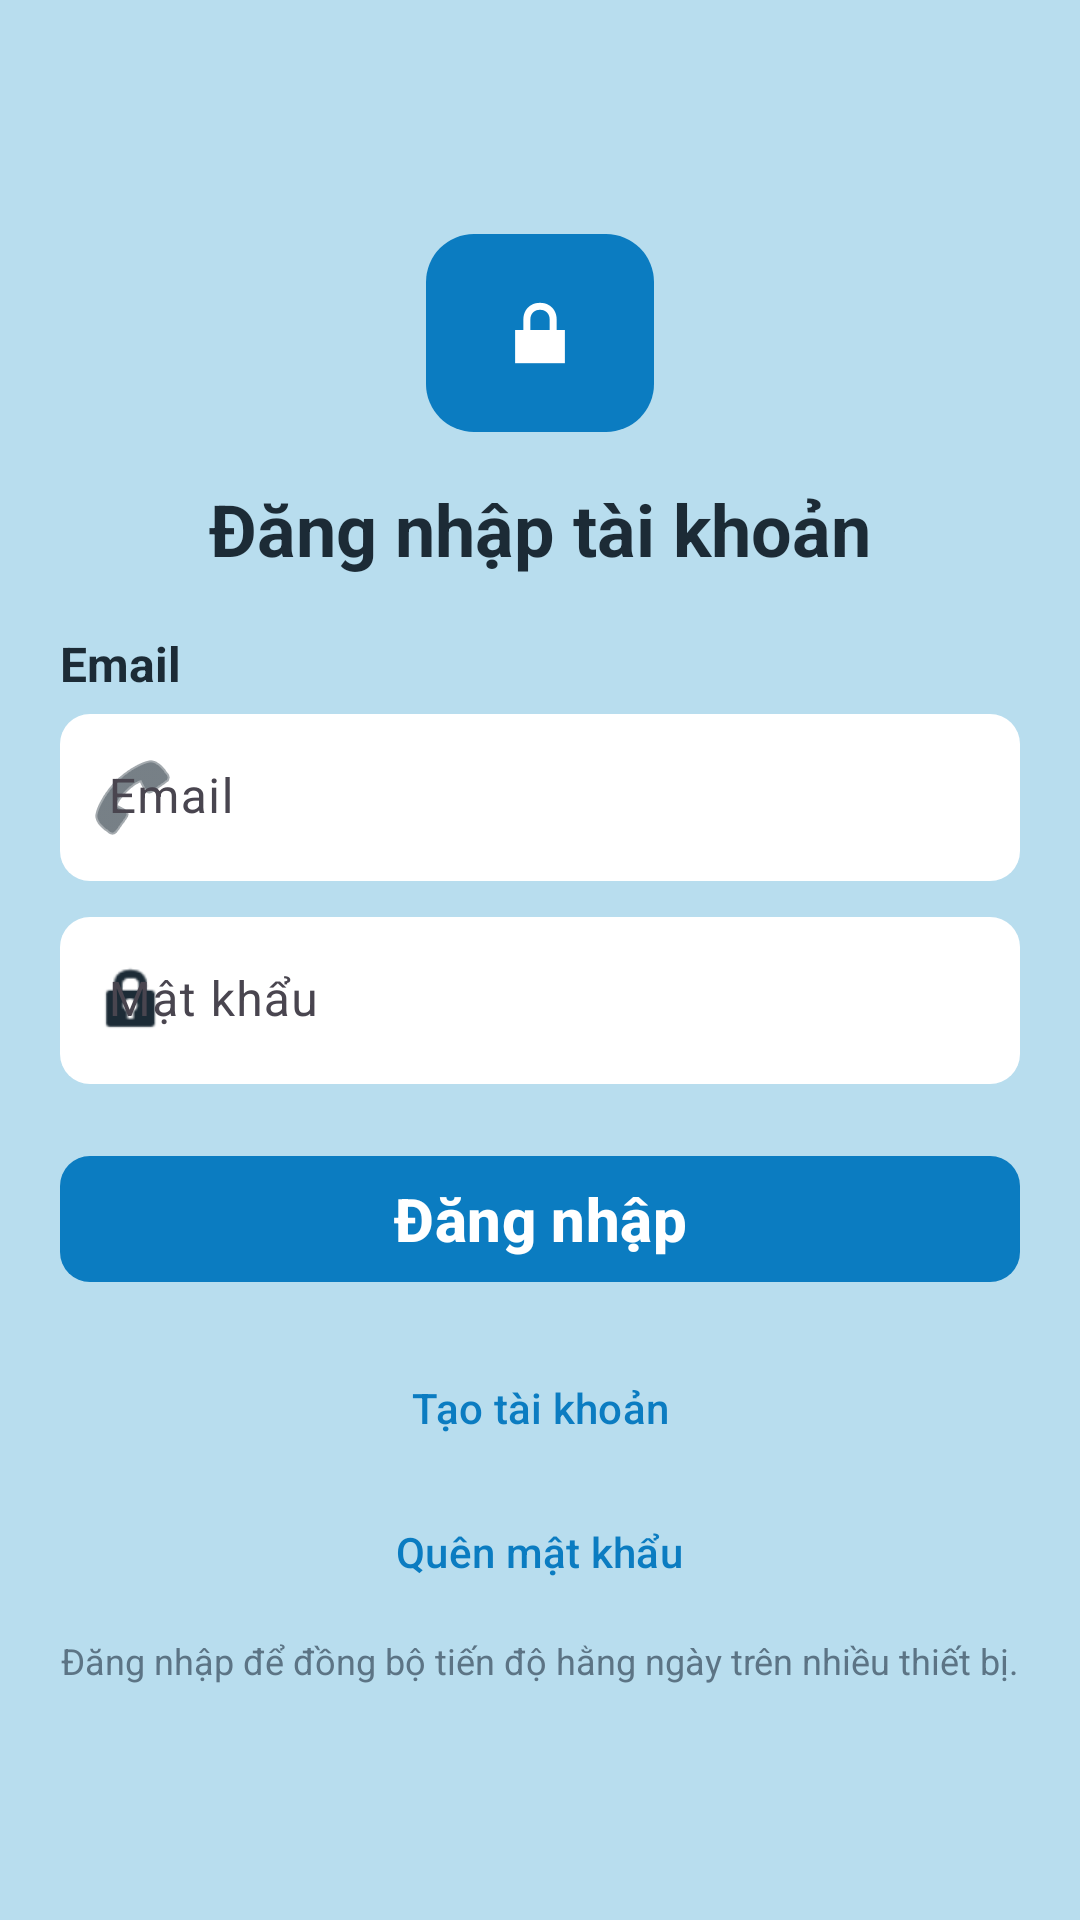

Icon click points for this 1080 x 1920 phone screenshot, format (x=x, y=y):
lock: (x=540, y=333)
